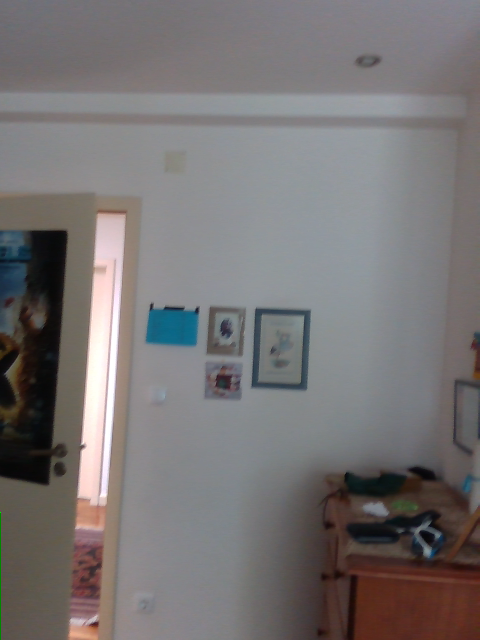semi: (2, 194, 143, 639)
